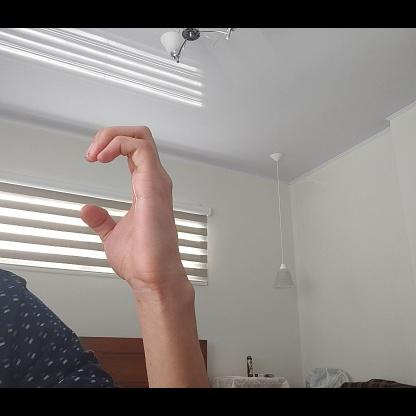C: (79, 125, 182, 285)
